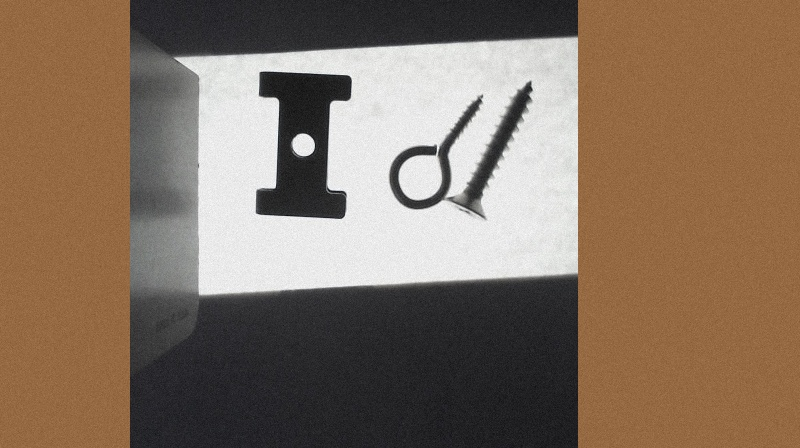O001: (387, 92, 485, 212)
O002: (253, 69, 351, 221)
S001: (443, 76, 535, 223)
